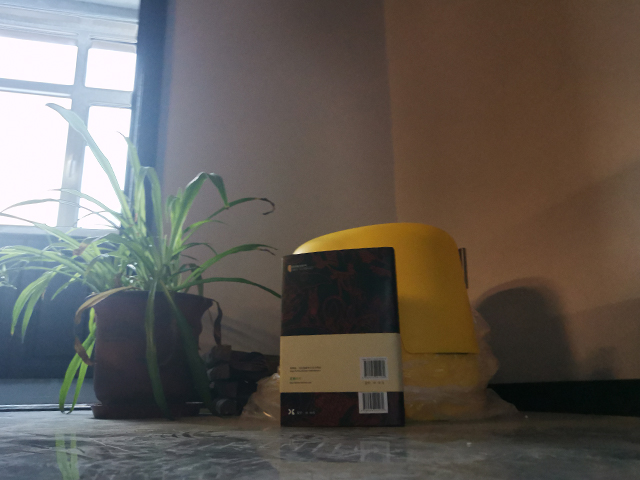book: (277, 244, 409, 432)
stool: (290, 217, 497, 423)
